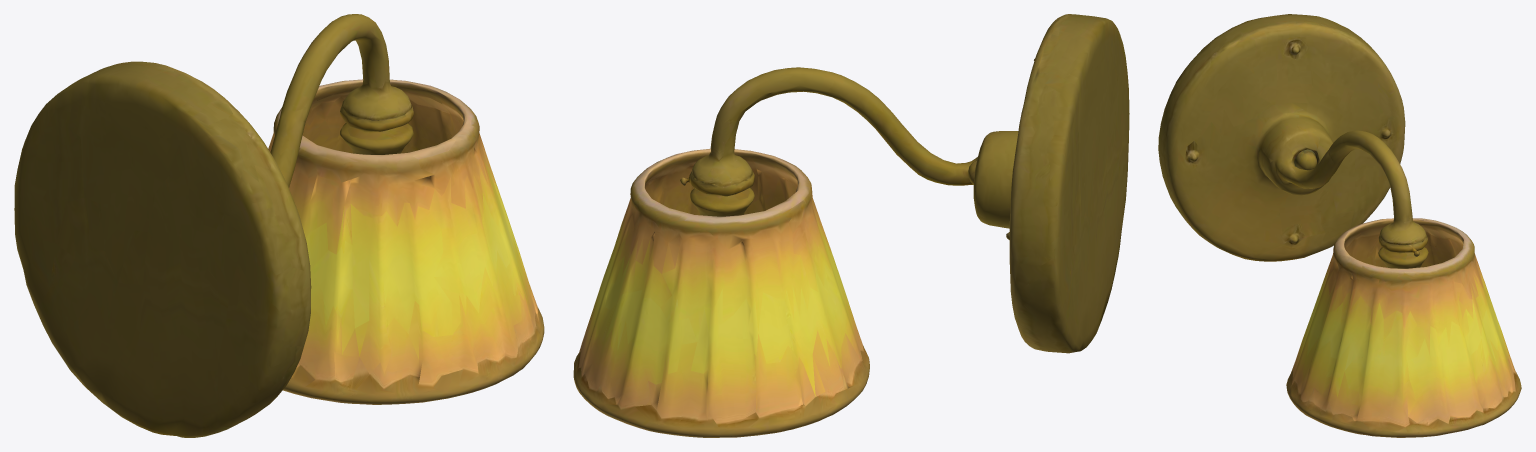
The model's file is scene-wall-sconce.glb.
3 views of the same model, side by side, from view 1: azimuth 30°, elevation 25°; view 2: azimuth 150°, elevation 25°; view 3: azimuth 270°, elevation 25° (orthographic). The views are drawn at different scales.
Visible parts, largest first — view 1: tripo_node_a3218ec6-a15c-4151-879c-6116786c626e; view 2: tripo_node_a3218ec6-a15c-4151-879c-6116786c626e; view 3: tripo_node_a3218ec6-a15c-4151-879c-6116786c626e.
Part boxes in pixels (left/top/right/bottom): tripo_node_a3218ec6-a15c-4151-879c-6116786c626e: left=14, top=14, right=544, bottom=437; tripo_node_a3218ec6-a15c-4151-879c-6116786c626e: left=573, top=14, right=1129, bottom=437; tripo_node_a3218ec6-a15c-4151-879c-6116786c626e: left=1158, top=14, right=1521, bottom=437.
Bounding box in the file's own units: 0.975 × 0.7244 × 0.876.
1 material, 1 textured.
